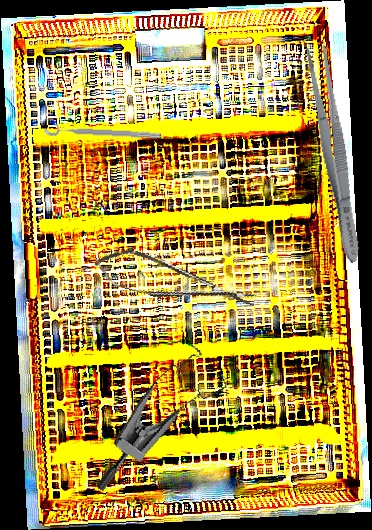Dressing Forceps: (302, 43, 367, 265)
Fixation Ring: (43, 116, 162, 143)
Micro Scissor: (90, 241, 260, 324)
Speculum: (93, 331, 238, 520)
